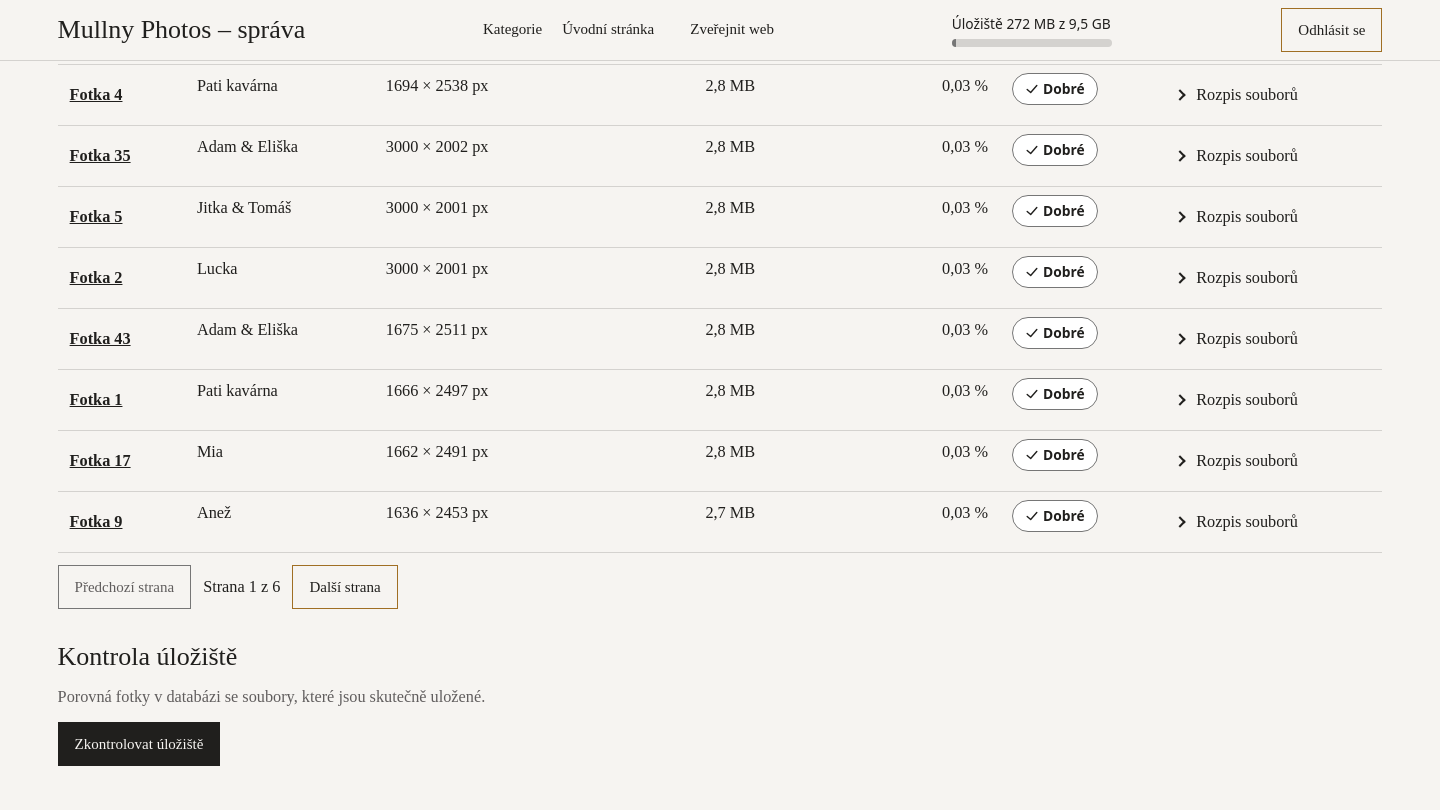
Test case: storage screen: check › cleanup needs a confirmation, Cancel returns focus to the opener, confirming sends apply: true and re-checks
(page scrolled)
Click the button "Zkontrolovat úložiště".
click(139, 744)  # box [58,722,220,766]
(page scrolled)
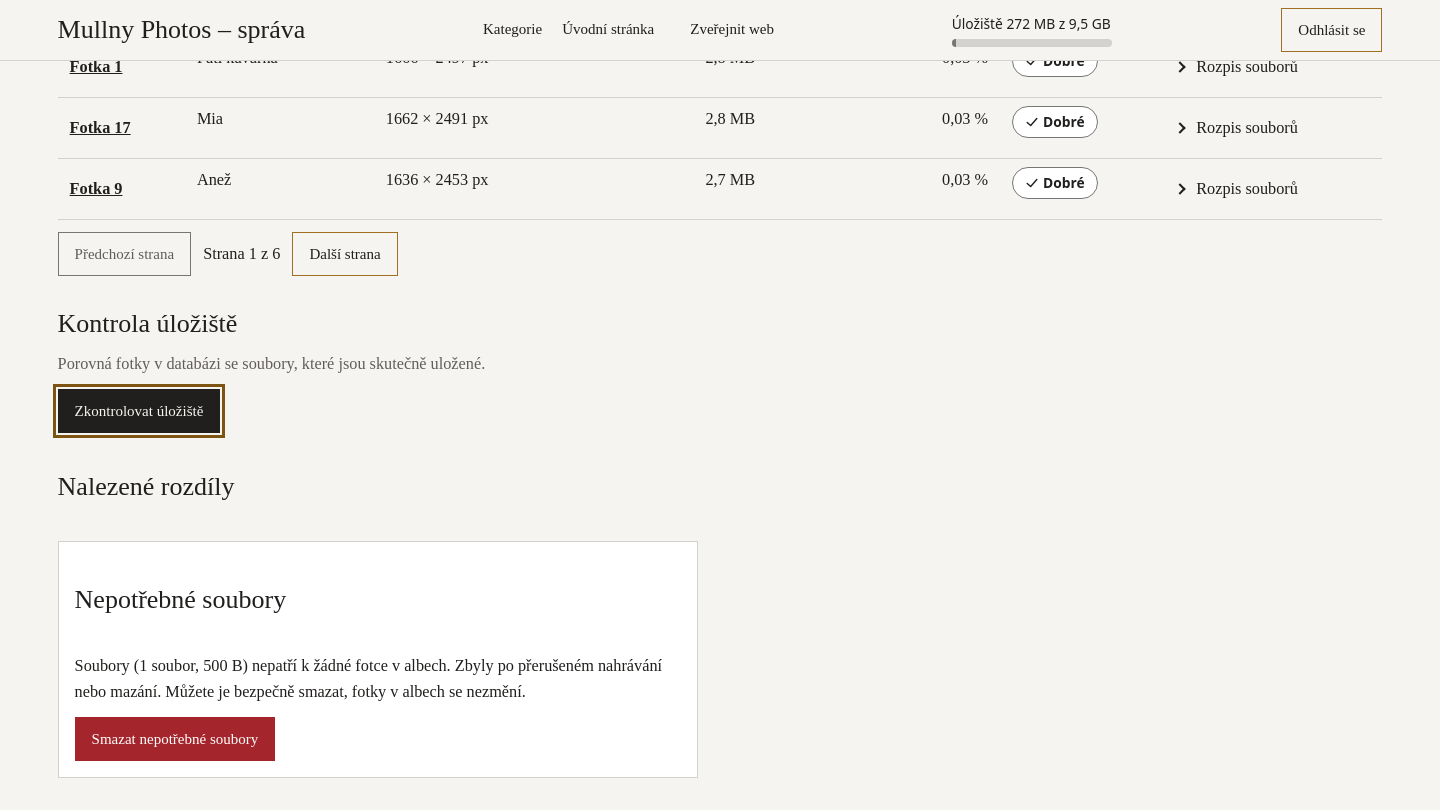
Click the button "Smazat nepotřebné soubory".
click(175, 739)  # box [75,717,275,761]
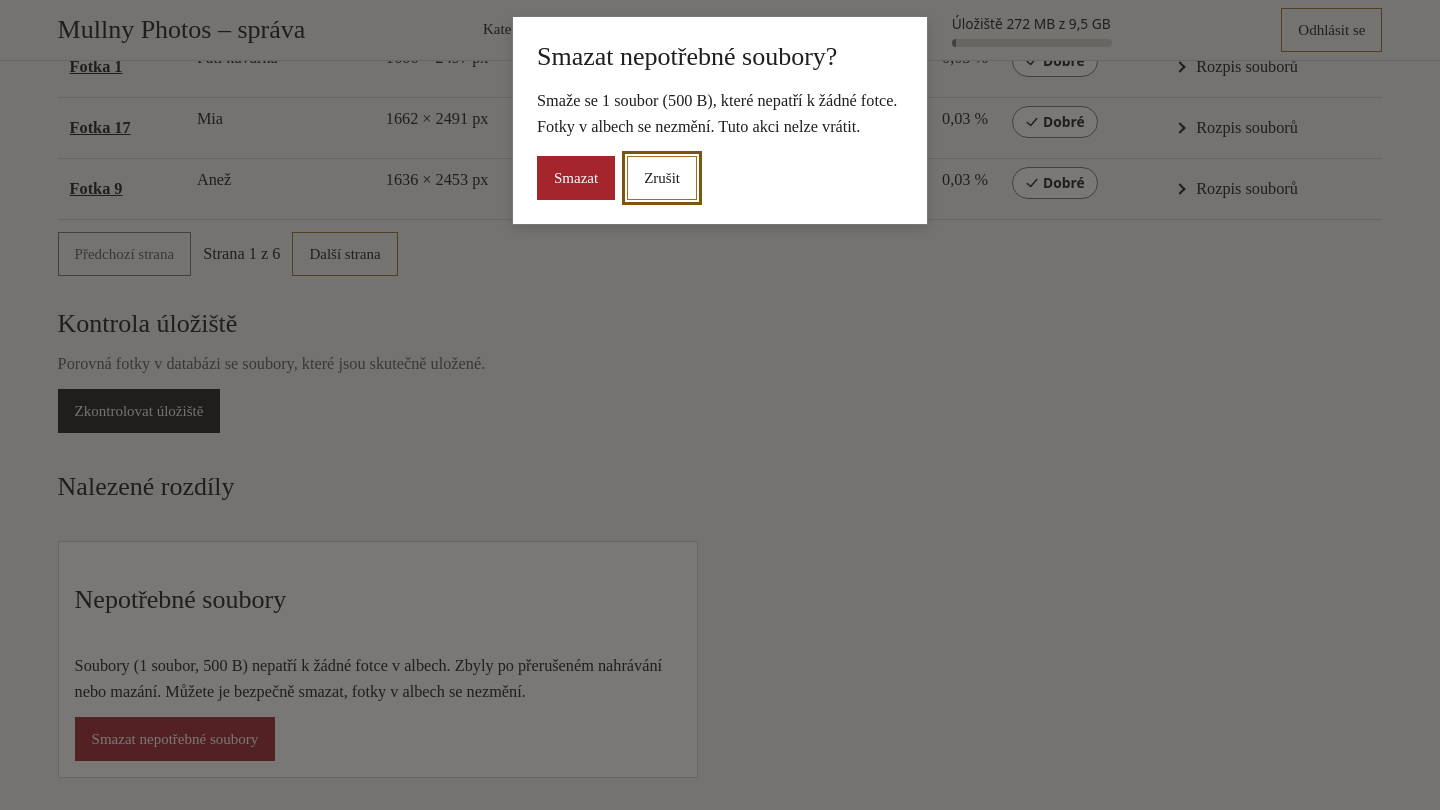
expect the dialog "Smazat nepotřebné soubory?" shows "Smaže se 1 soubor (500 B)": met, box [537,91,897,136]
Click the button "Zrušit".
click(662, 178)  # box [627,156,697,200]
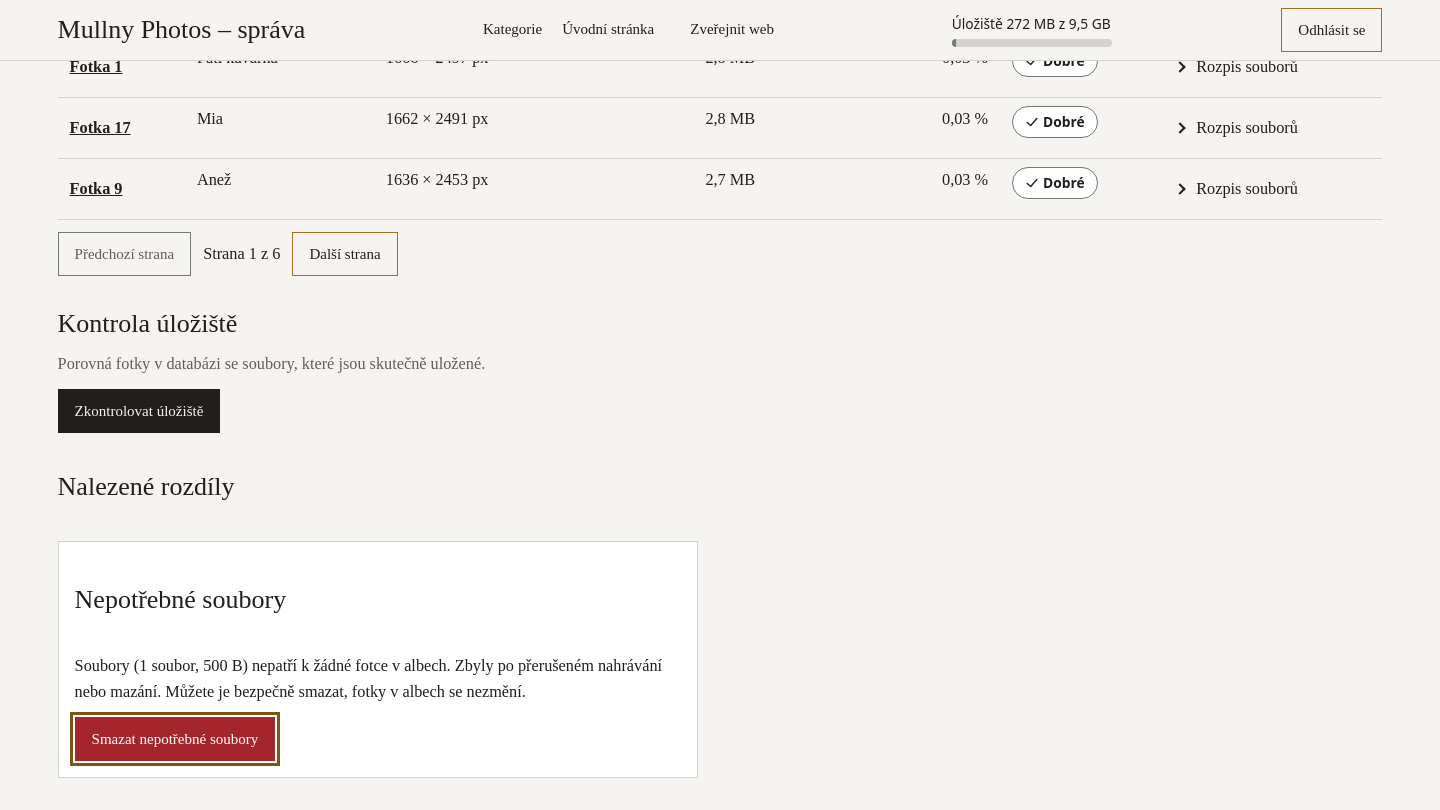
expect the dialog is gone: met
Click the button "Smazat nepotřebné soubory".
click(175, 739)  # box [75,717,275,761]
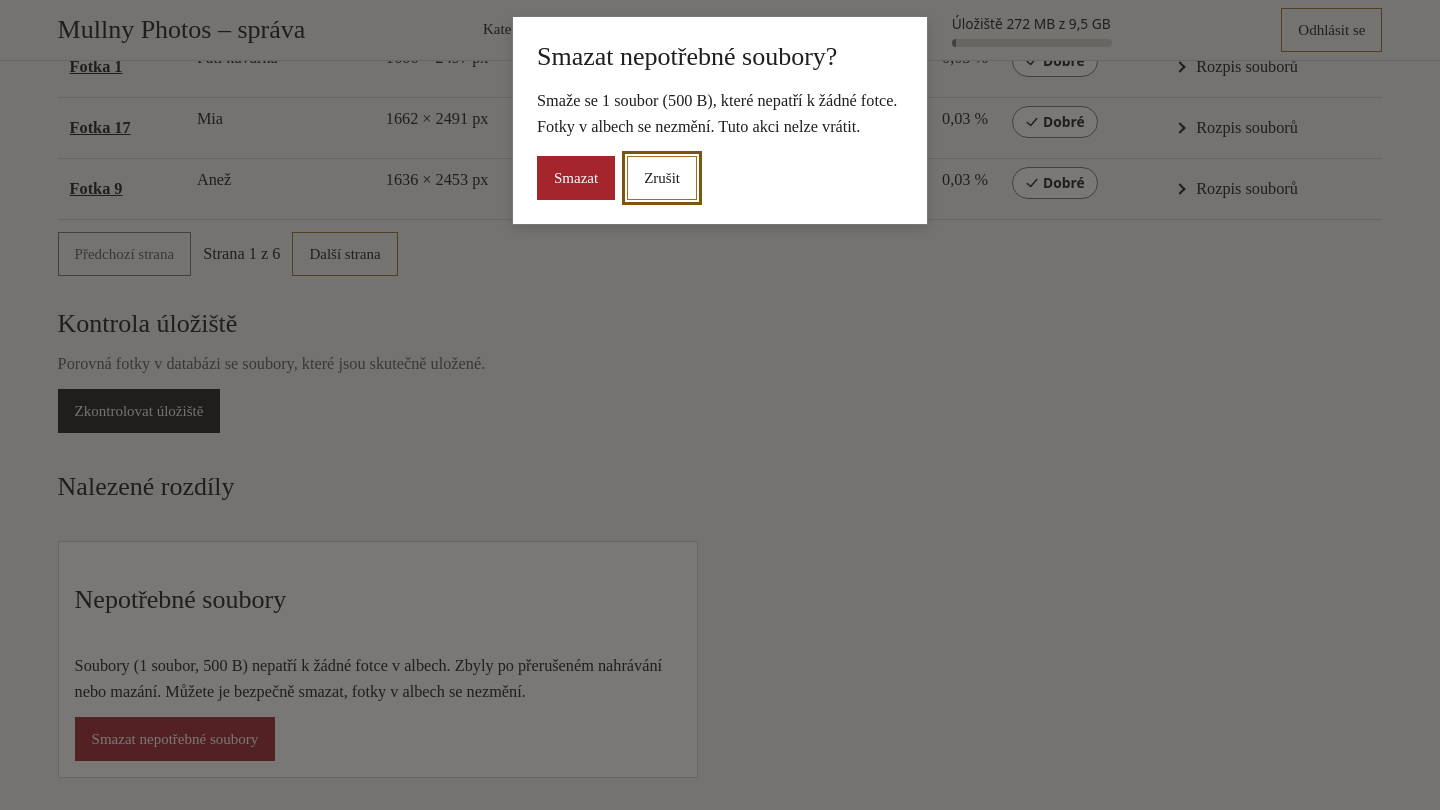
Click the button "Smazat".
click(576, 178)  # box [537,156,615,200]
(page scrolled)
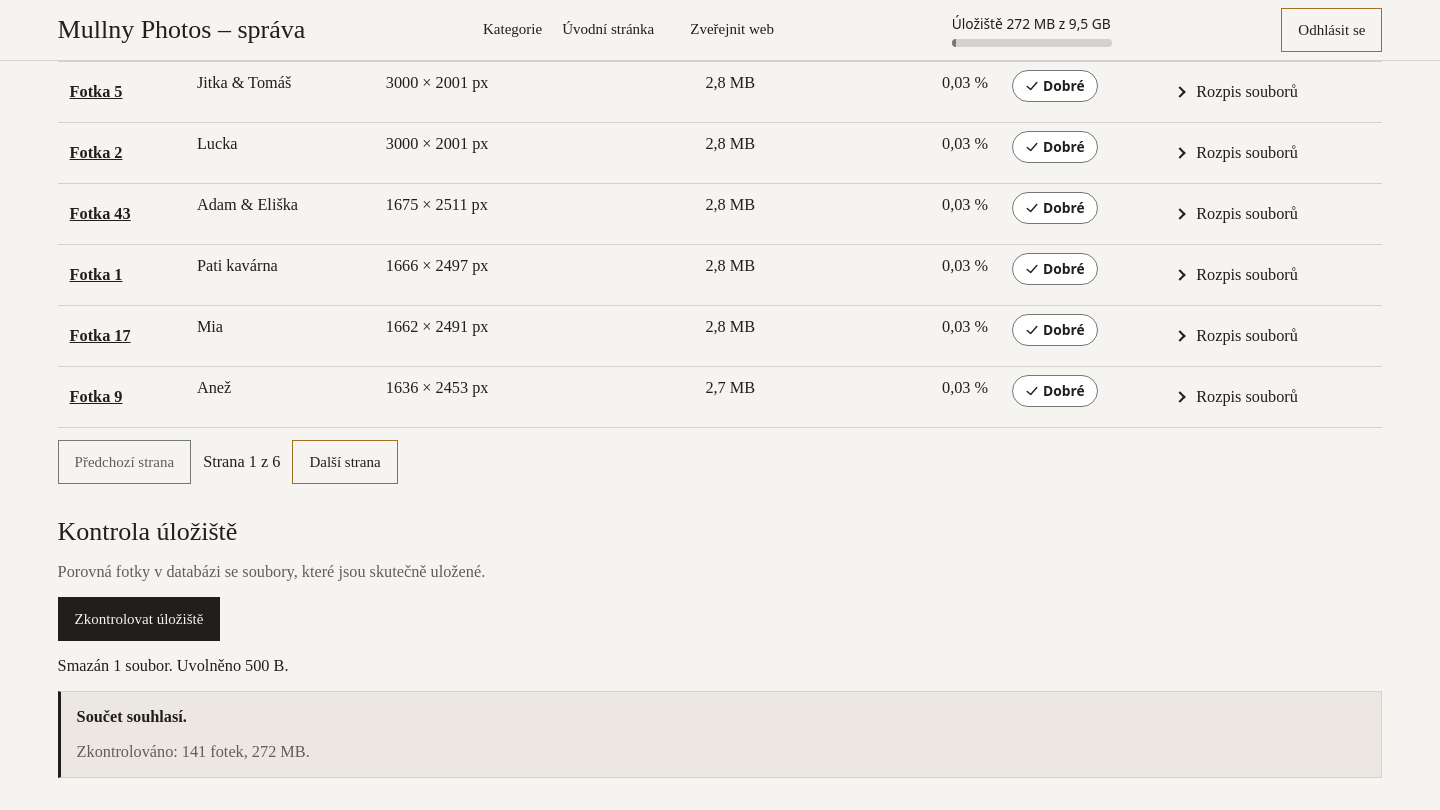
expect the text "Smazán 1 soubor. Uvolněno 500 B." is shown: met, box [58,656,288,675]
expect the text "Součet souhlasí." is shown: met, box [77,708,187,726]
expect the button "Smazat nepotřebné soubory" is gone: met
